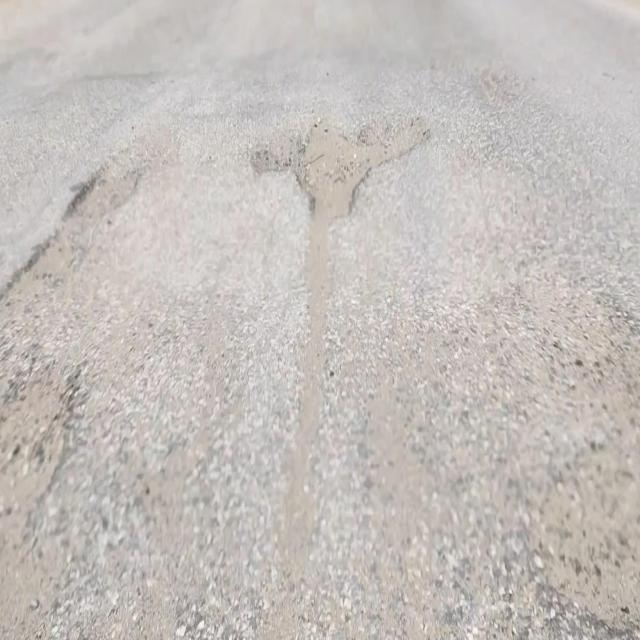pothole: (535, 404, 640, 639), (0, 364, 80, 540), (286, 111, 372, 221), (64, 153, 139, 221), (355, 115, 426, 167), (19, 232, 77, 285)
